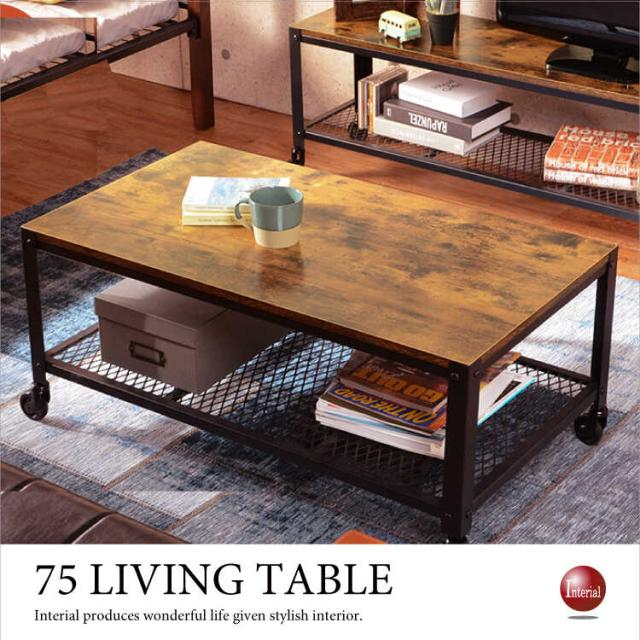vintage desk: (16, 135, 620, 545)
